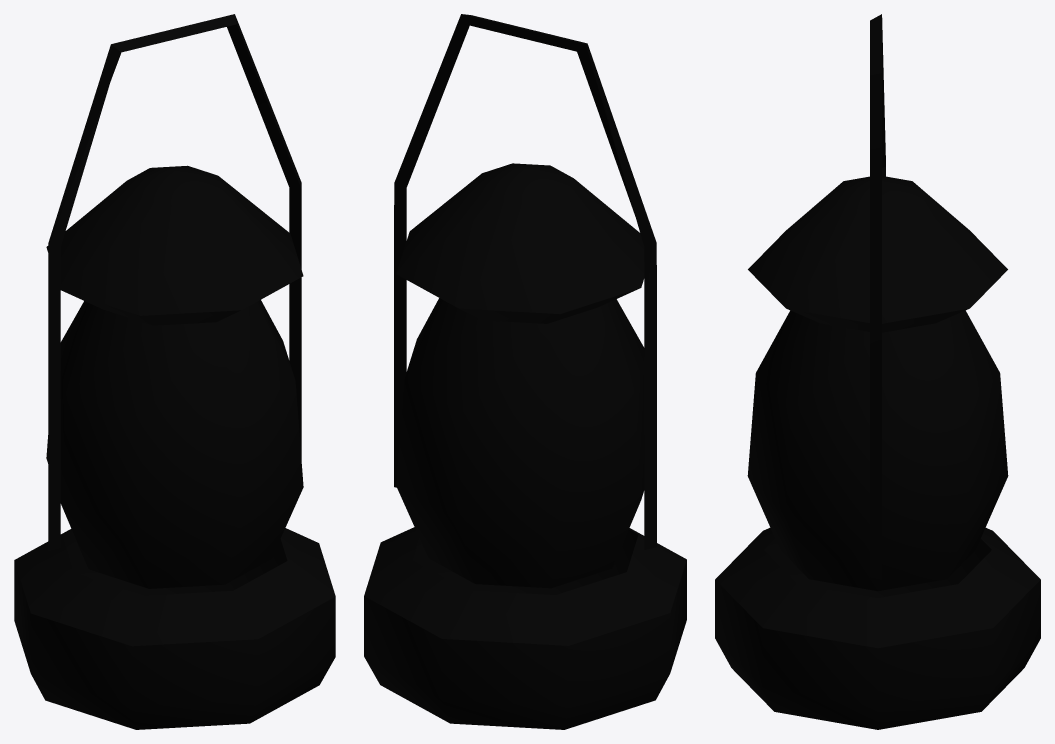
Rendered from SM_lantern.fbx.
3 renders of one model, left to right at view 1: azimuth 30°, elevation 25°; view 2: azimuth 150°, elevation 25°; view 3: azimuth 270°, elevation 25°, orthographic. The views are drawn at different scales.
Visible parts, largest first — view 1: lantern; view 2: lantern; view 3: lantern.
Boxes of the visible parts, x1=… form: lantern: x1=14, y1=14, x2=335, y2=729; lantern: x1=364, y1=14, x2=686, y2=729; lantern: x1=715, y1=14, x2=1040, y2=729.
Size of the model in its own units: 0.2 by 0.4231 by 0.2.
